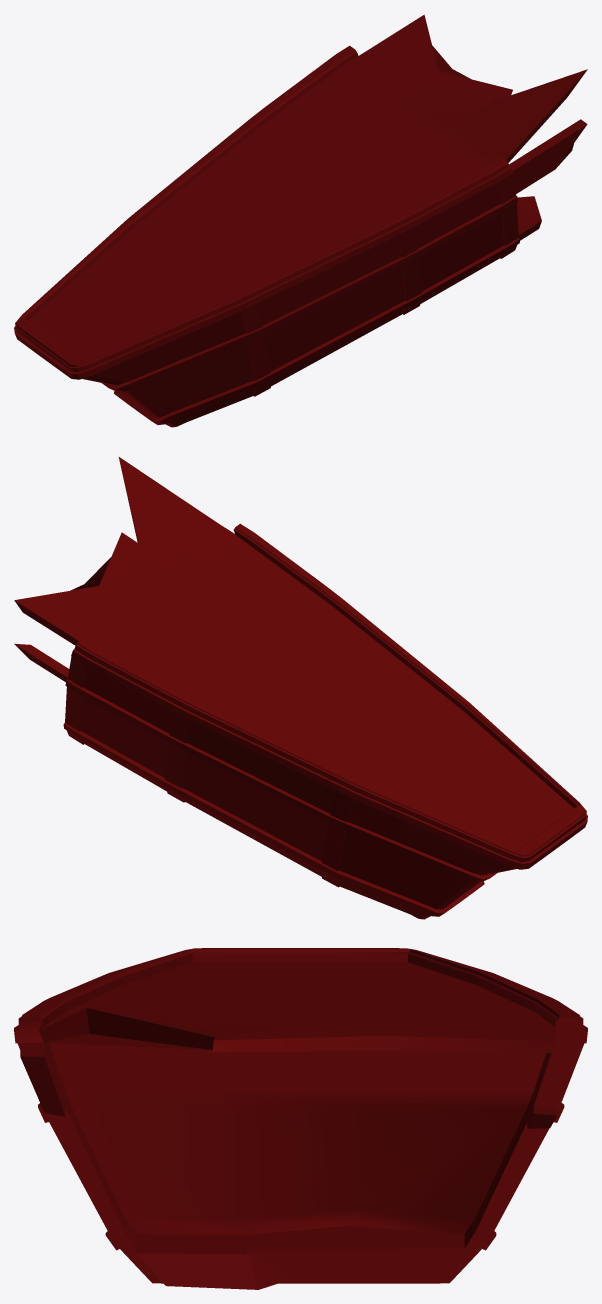
Rendered from BrokenFrontShipMesh.fbx.
3 views of the same model, one above another, from view 1: azimuth 30°, elevation 25°; view 2: azimuth 150°, elevation 25°; view 3: azimuth 270°, elevation 25° (orthographic). The views are drawn at different scales.
Parts seen in each view (by area): view 1: pCube33; view 2: pCube33; view 3: pCube33.
Part boxes in pixels (x1=…): pCube33: x1=14, y1=14, x2=587, y2=427; pCube33: x1=14, y1=457, x2=587, y2=919; pCube33: x1=14, y1=948, x2=587, y2=1289.
Size of the model in its own units: 762 by 453 by 439.
